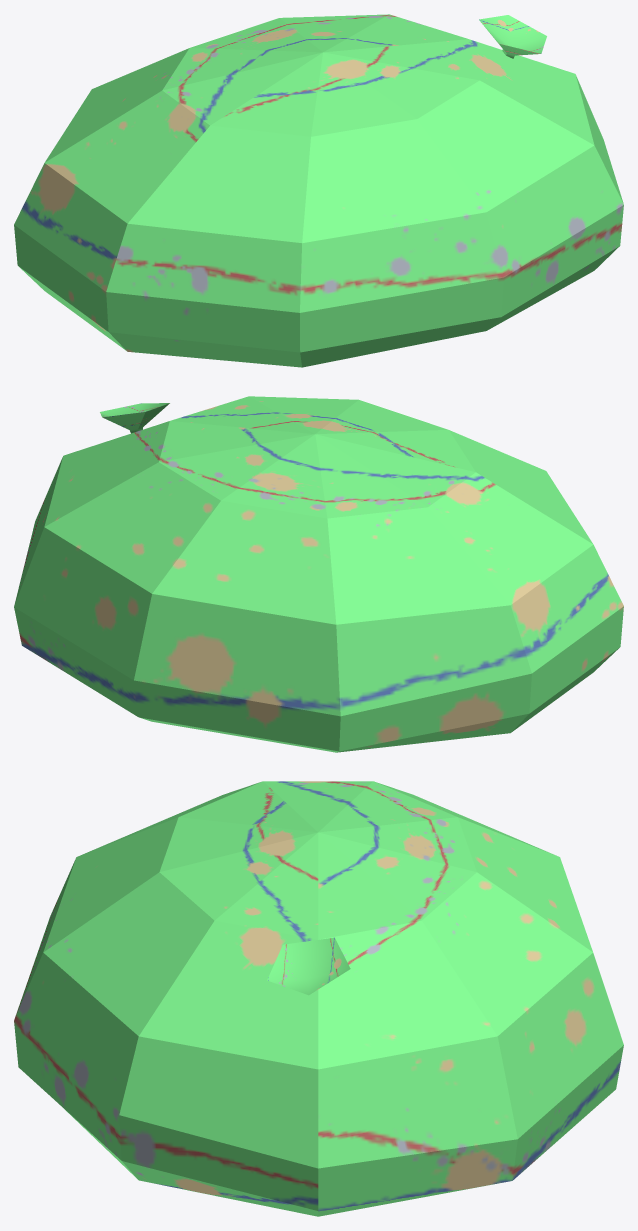
File: WaterBalloon_Landmine_2.fbx
The picture shows the model from 3 angles, top to bottom: view 1: azimuth 30°, elevation 25°; view 2: azimuth 150°, elevation 25°; view 3: azimuth 270°, elevation 25°; orthographic projection. The views are drawn at different scales.
Visible parts, largest first — view 1: pSphere2, pCylinder1; view 2: pSphere2, pCylinder1; view 3: pSphere2, pCylinder1.
Boxes of the visible parts, <box> form: pSphere2: <box>14,14,623,367</box>; pCylinder1: <box>479,15,546,58</box>; pSphere2: <box>14,396,623,752</box>; pCylinder1: <box>100,403,169,433</box>; pSphere2: <box>14,781,623,1216</box>; pCylinder1: <box>267,937,350,995</box>.
Size of the model in its own units: 626 by 232 by 529.
1 material, 1 textured.
